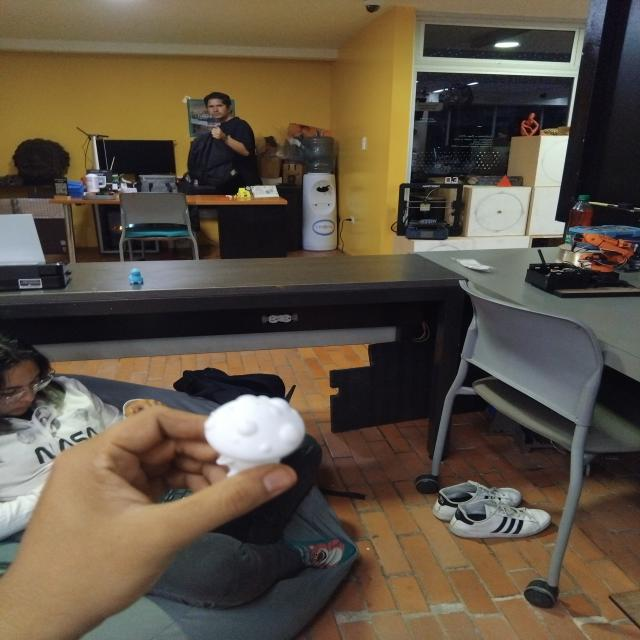Hongo: (195, 390, 310, 480)
